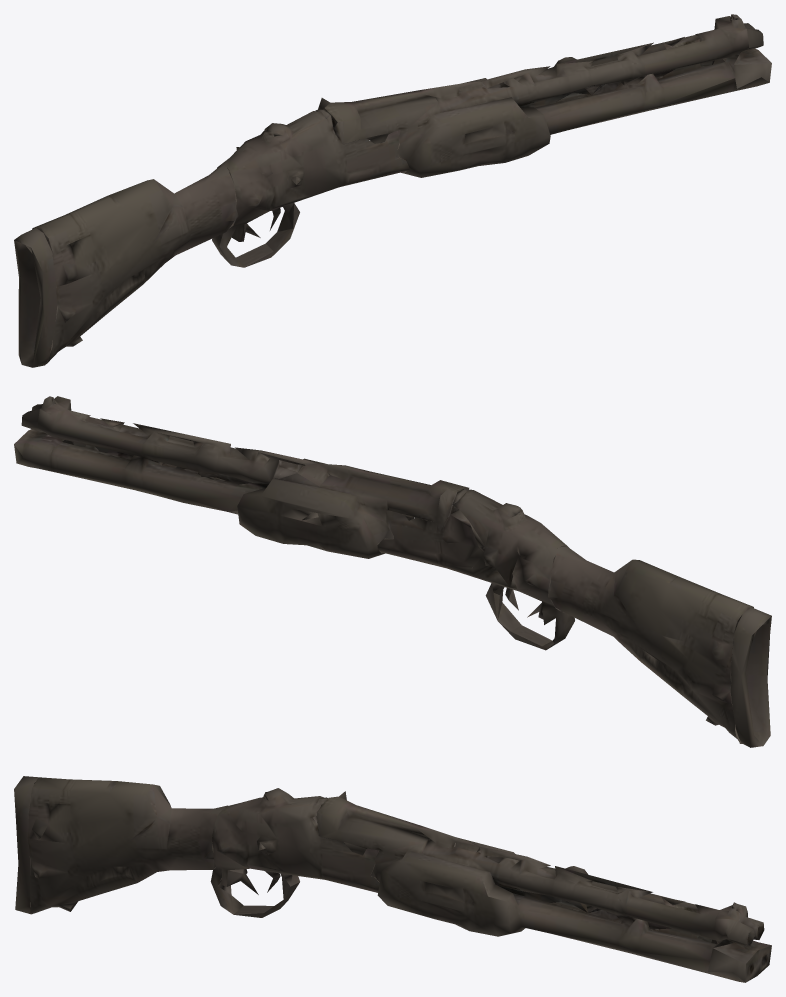
File: scatter-shotgun.glb
3 views of the same model, one above another, from view 1: azimuth 30°, elevation 25°; view 2: azimuth 150°, elevation 25°; view 3: azimuth 330°, elevation 25° (orthographic).
Visible parts, largest first — view 1: HMH Weapon | scatter-shotgun; view 2: HMH Weapon | scatter-shotgun; view 3: HMH Weapon | scatter-shotgun.
Part boxes in pixels (x1,y1,x2,y2): HMH Weapon | scatter-shotgun: (14,14,771,367); HMH Weapon | scatter-shotgun: (14,396,771,747); HMH Weapon | scatter-shotgun: (14,776,771,982).
Bounding box in the file's own units: 1.05 × 0.252 × 0.1054.
1 material, 1 textured.
